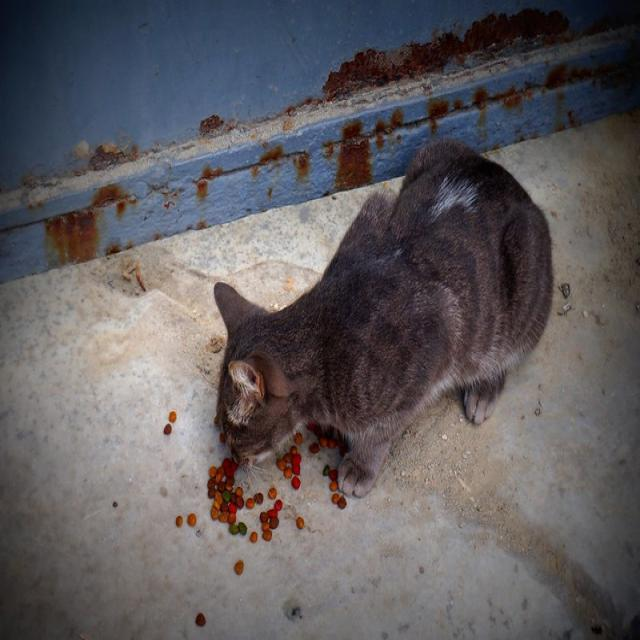cat: (215, 141, 552, 496)
